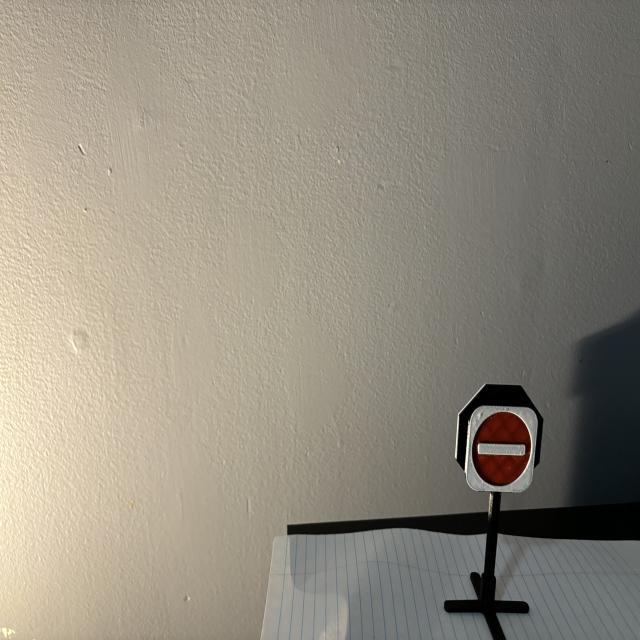sign_noentry: (466, 407, 538, 494)
